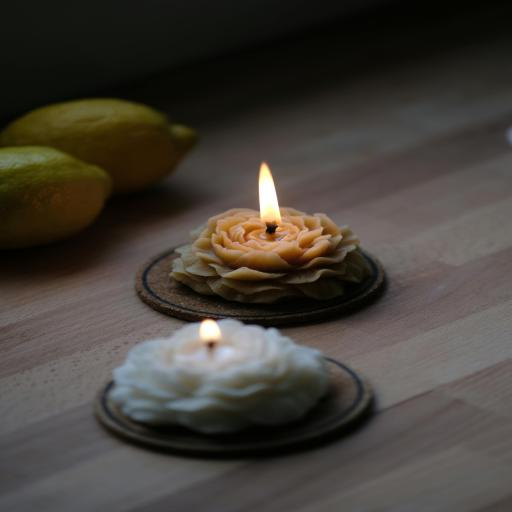candlelight: (101, 297, 358, 450), (148, 142, 371, 306)
